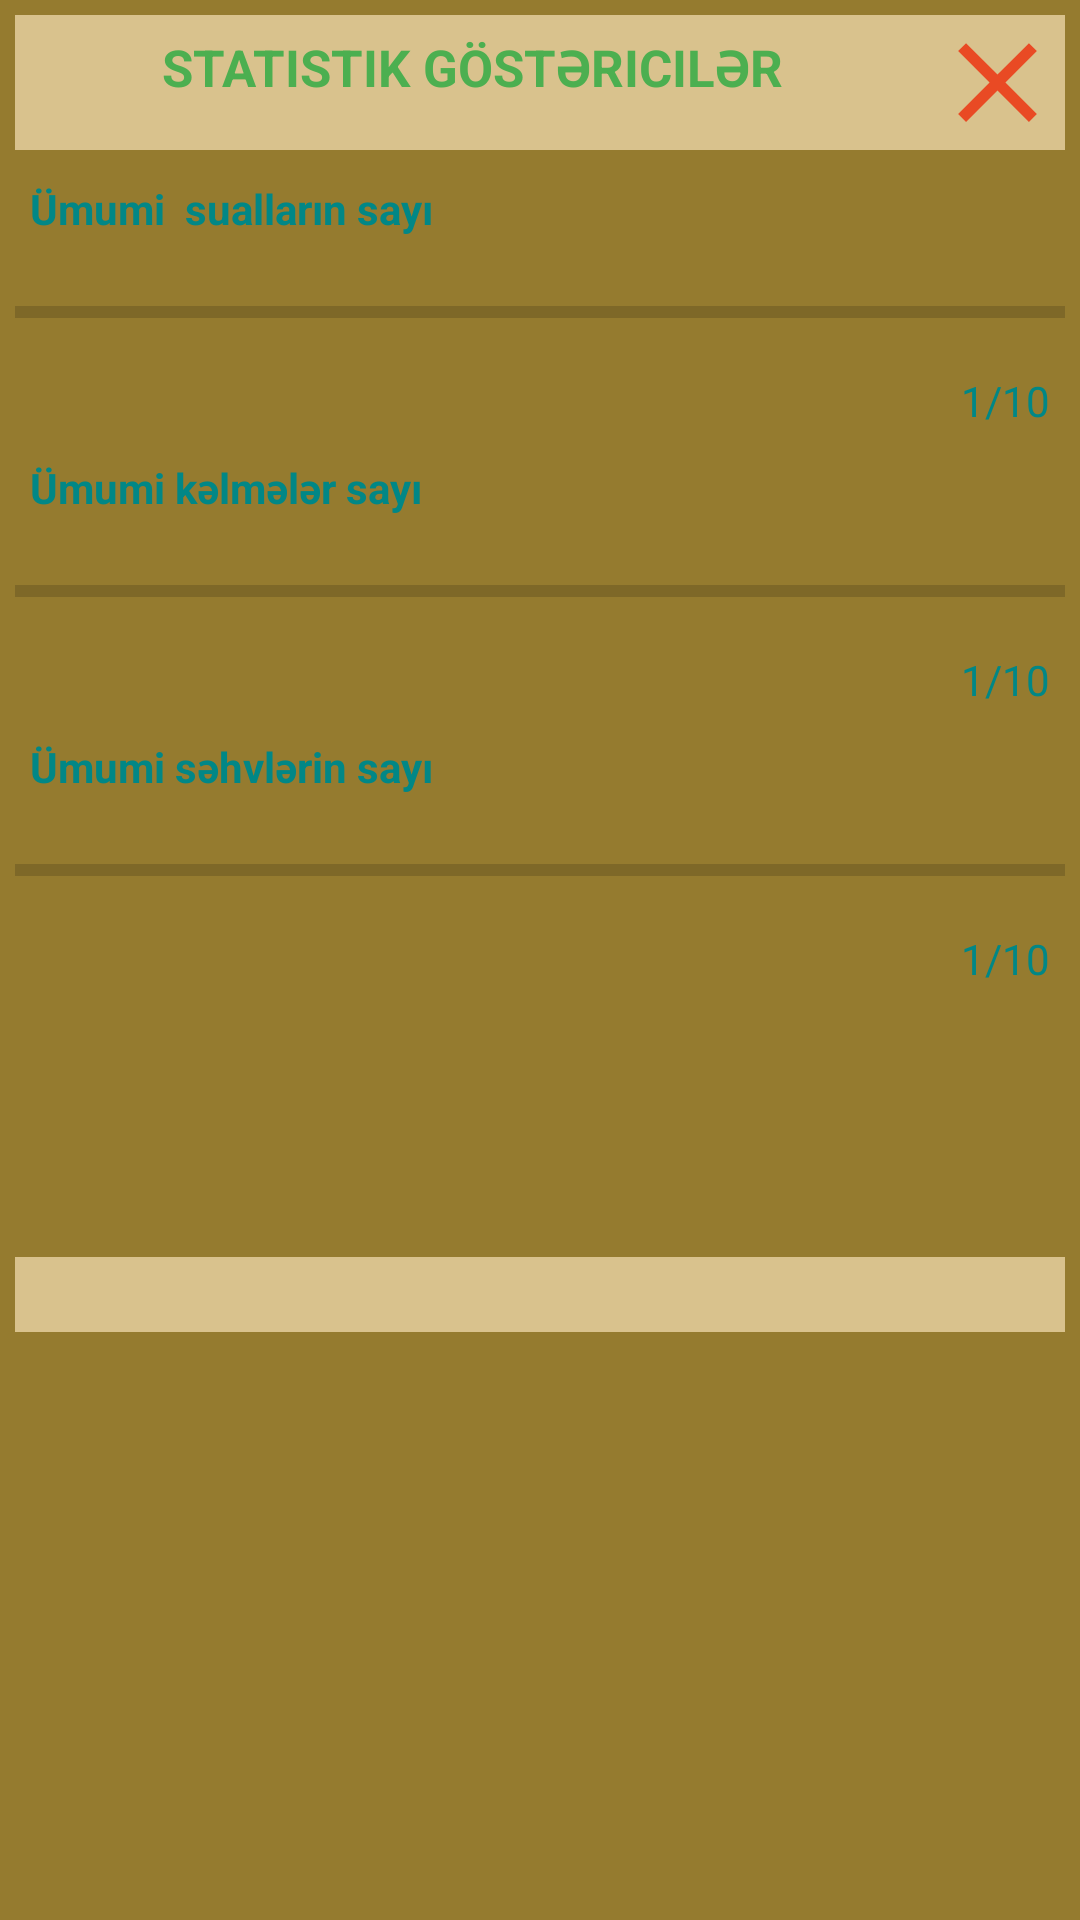

Locate icon controls on the screen. Image size 1080px×1920px, boxes as region(x1, y1, x2, y2).
closed: region(930, 15, 1065, 150)
